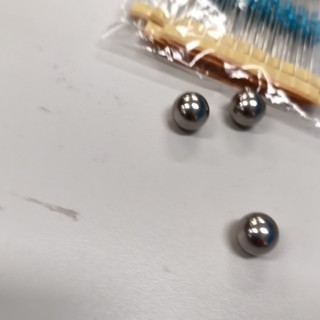ironball: (228, 195, 281, 263), (164, 77, 210, 146), (227, 80, 270, 135)
